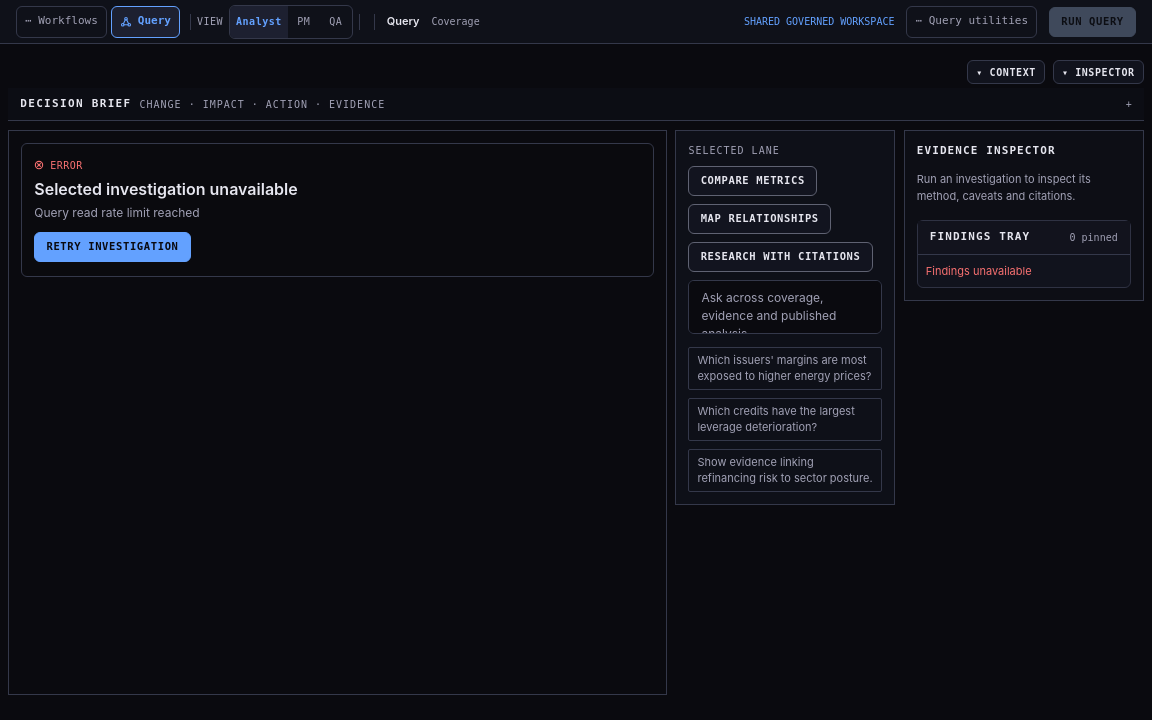
Test: Query investigation edge interactions › makes a failed URL-selected investigation explicit and retryable
This screenshot has width=1152, height=720.
expect the heading "Selected investigation unavailable" is shown: met, box [34,179,298,199]
expect the text box named "Query coverage" is enabled: met, box [688,280,882,334]
What coordinates should you click on to do the following:
click the button "Retry investigation"
I would click on:
 (113, 247)
Its box is [34,232,191,262].
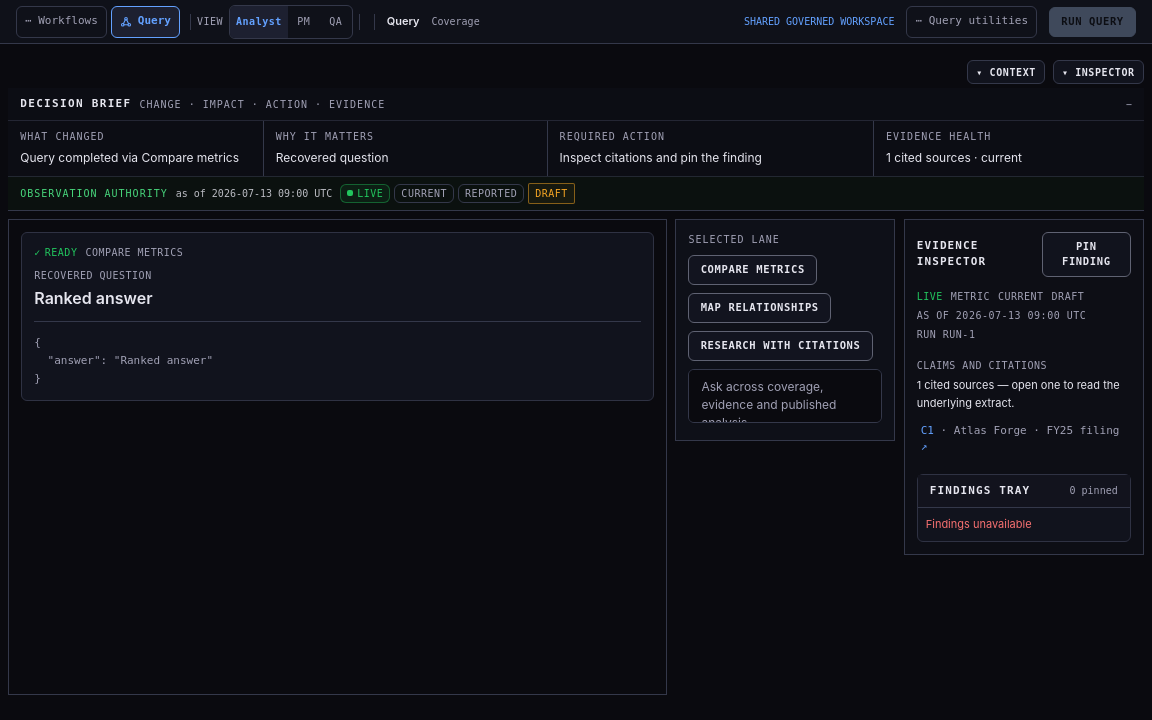
expect the heading "Ranked answer" is shown: met, box [34,288,153,308]
